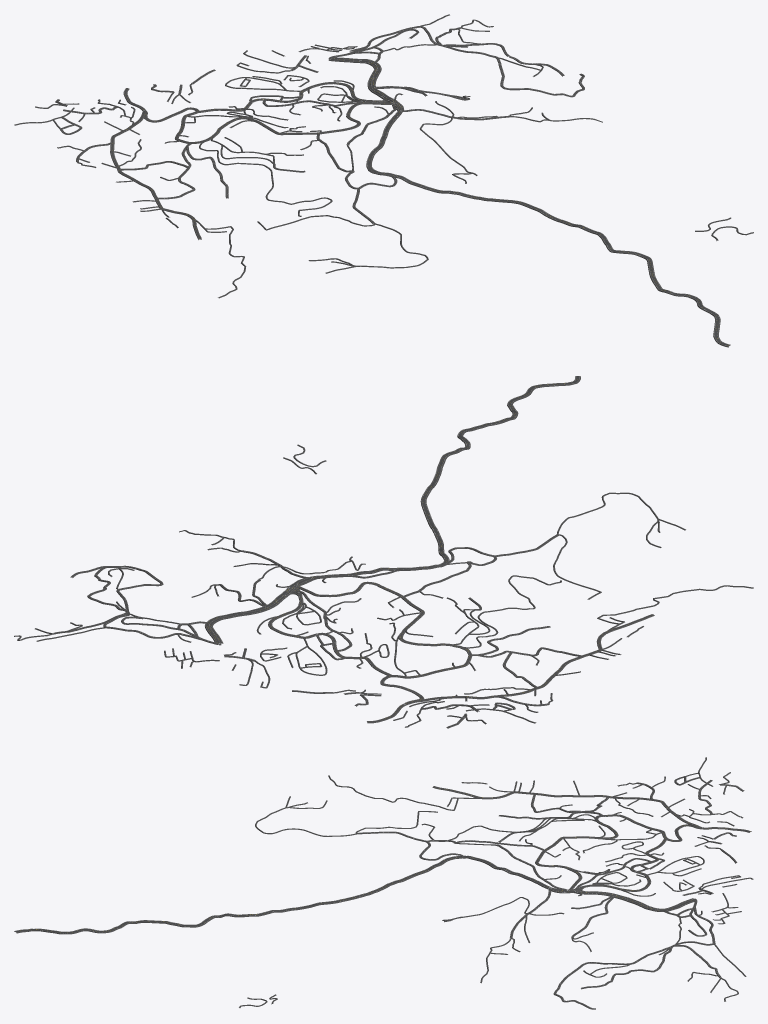
The model's file is osm_real_roads_T_E00_S01.glb.
The picture shows the model from 3 angles, top to bottom: view 1: azimuth 30°, elevation 25°; view 2: azimuth 150°, elevation 25°; view 3: azimuth 270°, elevation 25°; orthographic projection. The views are drawn at different scales.
Visible parts, largest first — view 1: OSM_Roads_T_E00_S01_taluy_embankment, OSM_Roads_T_E00_S01_asphalt_local, OSM_Roads_T_E00_S01_sidewalk_paver, OSM_Roads_T_E00_S01_asphalt_primary; view 2: OSM_Roads_T_E00_S01_taluy_embankment, OSM_Roads_T_E00_S01_asphalt_local, OSM_Roads_T_E00_S01_sidewalk_paver, OSM_Roads_T_E00_S01_asphalt_primary; view 3: OSM_Roads_T_E00_S01_taluy_embankment, OSM_Roads_T_E00_S01_asphalt_local, OSM_Roads_T_E00_S01_sidewalk_paver, OSM_Roads_T_E00_S01_asphalt_primary.
Boxes of the visible parts, left/top/right/bottom form: OSM_Roads_T_E00_S01_taluy_embankment: left=14, top=14, right=753, bottom=347; OSM_Roads_T_E00_S01_asphalt_local: left=14, top=14, right=753, bottom=297; OSM_Roads_T_E00_S01_sidewalk_paver: left=55, top=26, right=730, bottom=346; OSM_Roads_T_E00_S01_asphalt_primary: left=329, top=57, right=730, bottom=346; OSM_Roads_T_E00_S01_taluy_embankment: left=14, top=376, right=753, bottom=728; OSM_Roads_T_E00_S01_asphalt_local: left=14, top=444, right=753, bottom=727; OSM_Roads_T_E00_S01_sidewalk_paver: left=55, top=376, right=653, bottom=727; OSM_Roads_T_E00_S01_asphalt_primary: left=206, top=376, right=579, bottom=643; OSM_Roads_T_E00_S01_taluy_embankment: left=14, top=757, right=752, bottom=1009; OSM_Roads_T_E00_S01_asphalt_local: left=239, top=757, right=753, bottom=1008; OSM_Roads_T_E00_S01_sidewalk_paver: left=14, top=776, right=751, bottom=1008; OSM_Roads_T_E00_S01_asphalt_primary: left=15, top=856, right=695, bottom=933.
Size of the model in its own units: 2167 by 223 by 2978.
7 materials, 5 textured.
